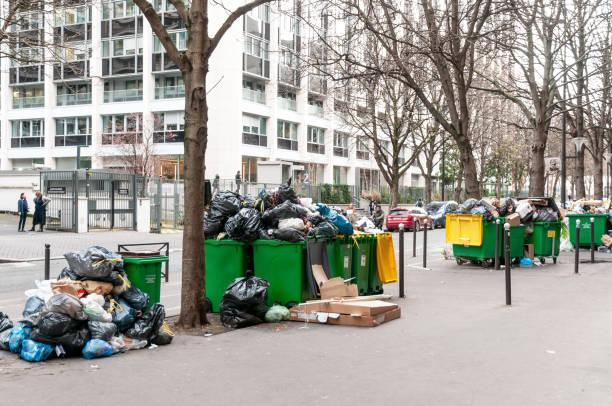trash: (281, 262, 408, 329), (21, 307, 100, 356), (69, 237, 154, 281), (211, 275, 276, 328), (46, 268, 134, 299), (80, 318, 138, 360), (130, 301, 172, 351), (1, 309, 40, 356), (206, 180, 249, 220), (30, 284, 82, 317), (307, 266, 364, 296), (231, 200, 268, 245), (124, 285, 157, 335), (259, 199, 310, 228), (16, 332, 64, 362), (260, 184, 305, 213), (566, 190, 612, 218), (103, 287, 134, 327), (265, 215, 302, 247), (299, 193, 322, 242), (196, 204, 227, 239), (309, 211, 335, 242), (334, 204, 353, 240), (81, 288, 101, 322), (488, 191, 516, 215), (315, 192, 334, 225), (515, 194, 534, 225), (351, 213, 374, 238), (455, 199, 487, 215), (534, 203, 559, 223), (484, 195, 500, 225), (520, 239, 534, 273), (471, 191, 489, 217), (502, 206, 521, 228)
trash_can_overflow: (31, 231, 172, 364), (242, 171, 309, 338), (196, 175, 253, 326), (315, 174, 362, 330), (447, 177, 506, 277), (341, 173, 374, 315), (494, 176, 536, 281), (559, 187, 612, 257), (367, 203, 396, 310), (527, 180, 556, 276)
